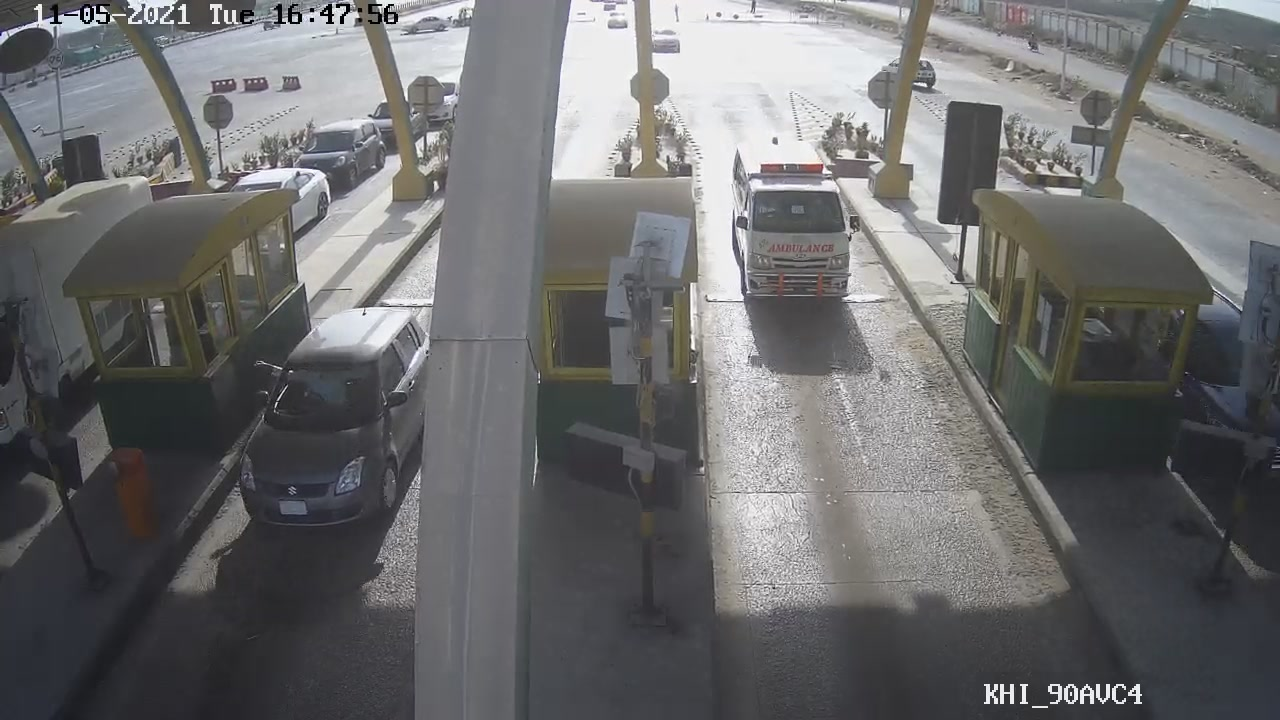F2: (726, 131, 878, 316)
